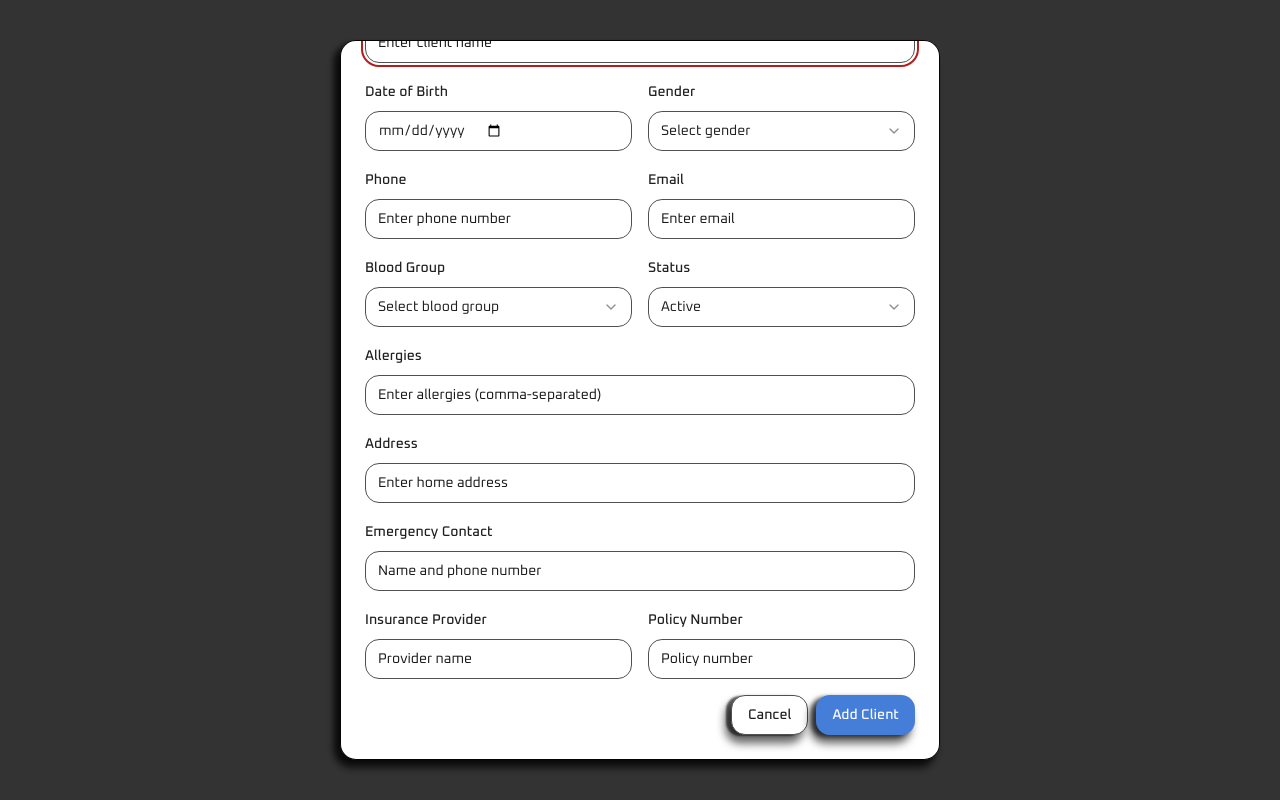
Test: ClientDialog Component › should validate required fields
(page scrolled)
Note: Submit without filling any fields
Click the button "Add Client".
click(866, 715)  # box [816, 695, 915, 735]
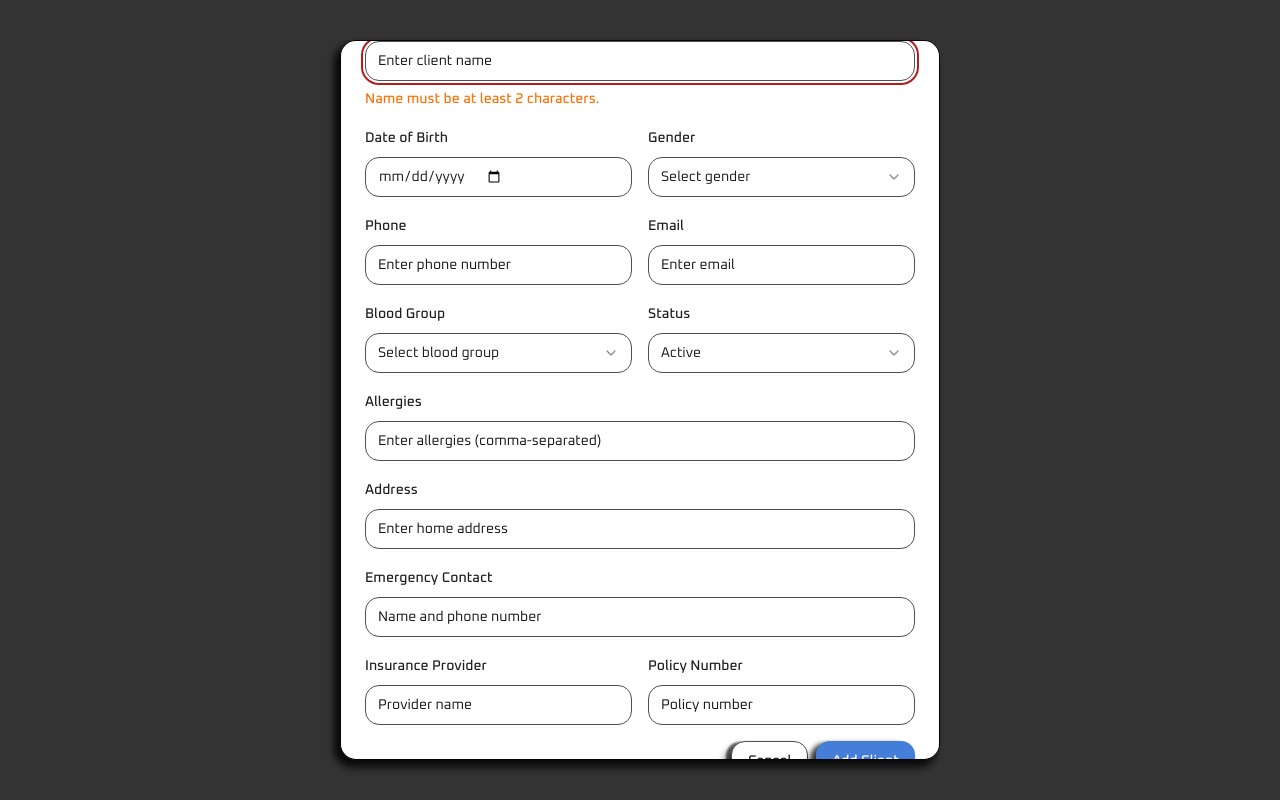
Expected: the text "Name must be at least 2 characters." is shown, [365, 92, 600, 106]
